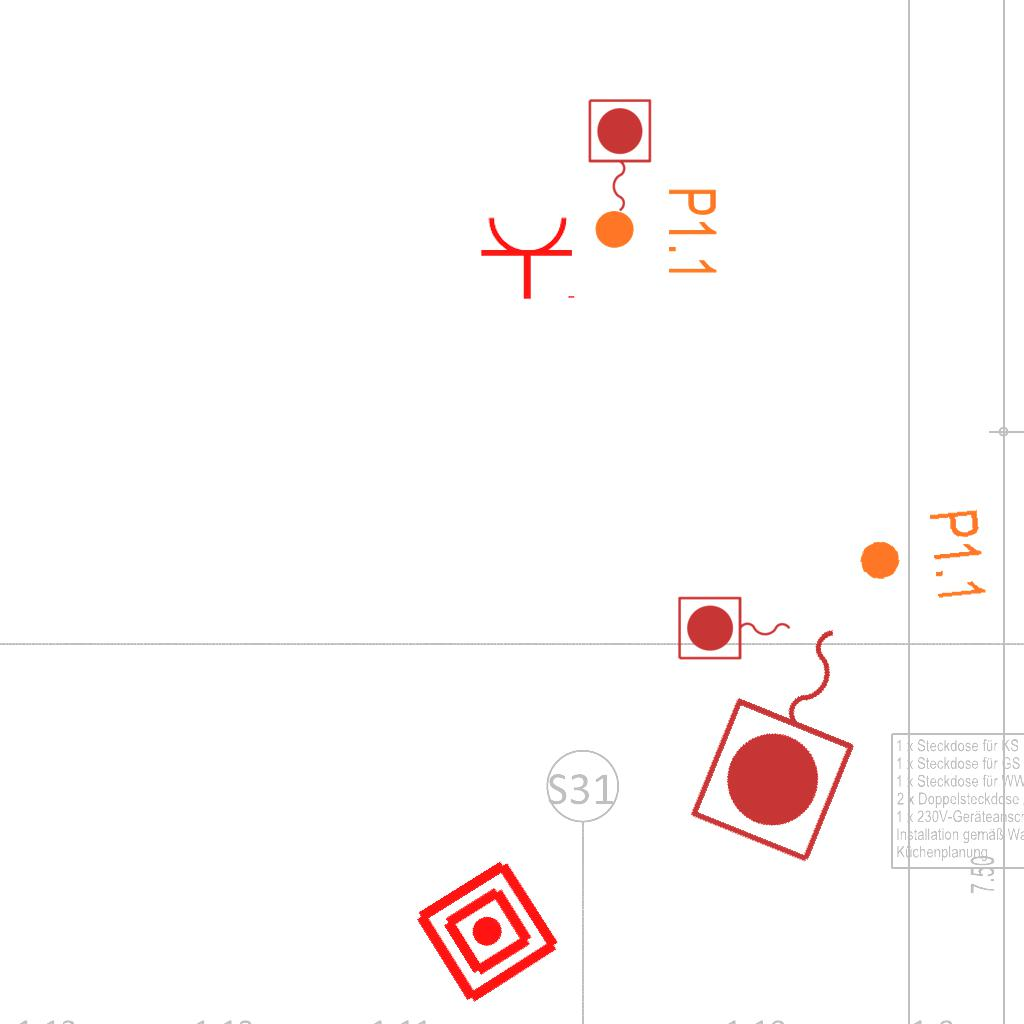Downlight_LED_Einbauleuchten_Flur: (852, 506, 991, 612), (592, 186, 720, 279)
NAM-Nichtautomatischer_Melder: (409, 853, 566, 1010)
Schukosteckdose_einfach: (479, 214, 579, 301)
Zugtaster: (680, 593, 906, 875), (674, 593, 796, 665), (583, 95, 655, 217)
